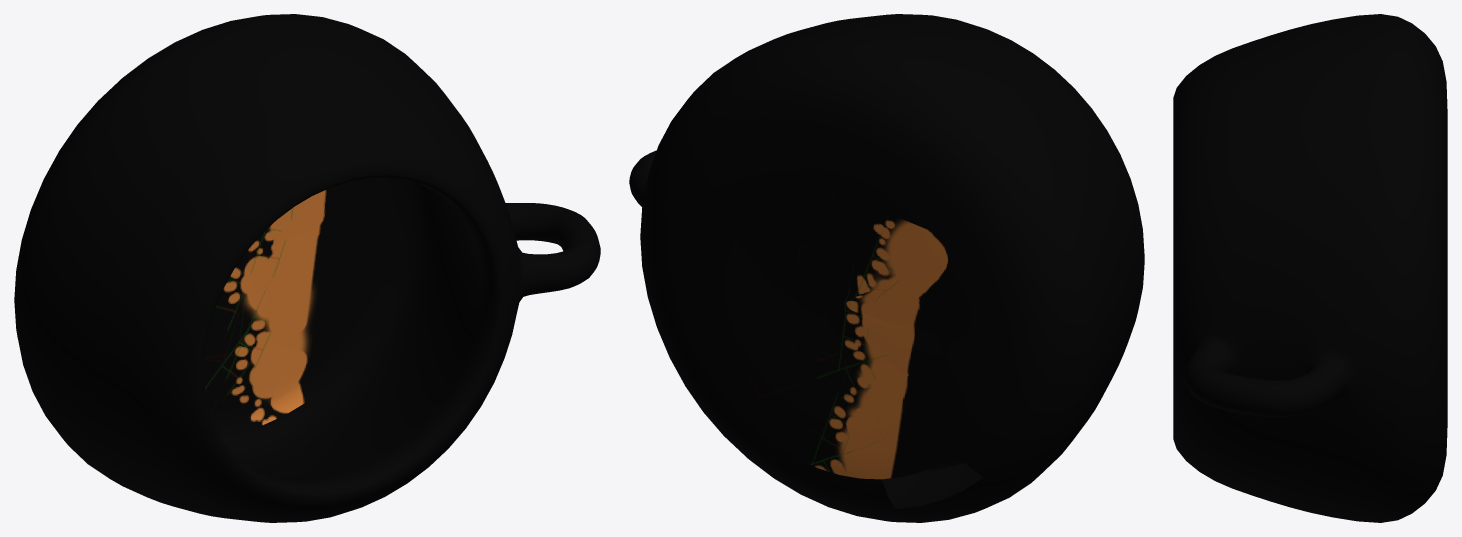
3 renders of one model, left to right at view 1: azimuth 30°, elevation 25°; view 2: azimuth 150°, elevation 25°; view 3: azimuth 270°, elevation 25°, orthographic.
Bounding box in the file's own units: 1 × 0.8762 × 0.4714.
